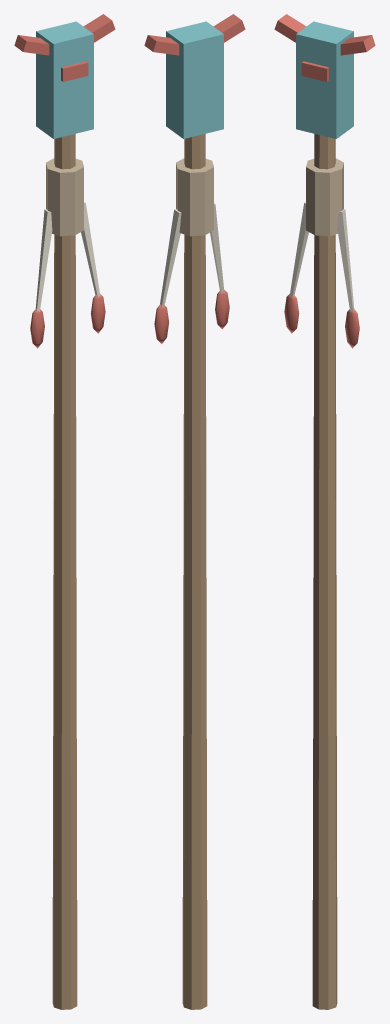
Rendered from Staff_Shaman.gltf.
The picture shows the model from 3 angles, left to right: view 1: azimuth 30°, elevation 25°; view 2: azimuth 210°, elevation 25°; view 3: azimuth 330°, elevation 25°; orthographic projection.
Visible parts, largest first — view 1: Staff_Shaman; view 2: Staff_Shaman; view 3: Staff_Shaman.
Part boxes in pixels (x1,y1,x2,y2): Staff_Shaman: (14, 14, 115, 1009); Staff_Shaman: (144, 14, 245, 1009); Staff_Shaman: (274, 14, 375, 1009).
Bounding box in the file's own units: 0.1832 × 1.85 × 0.071.
